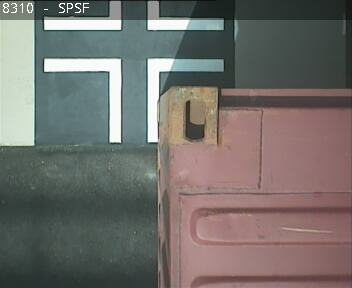groundmarker_1: (43, 57, 223, 141), (44, 1, 223, 30)
